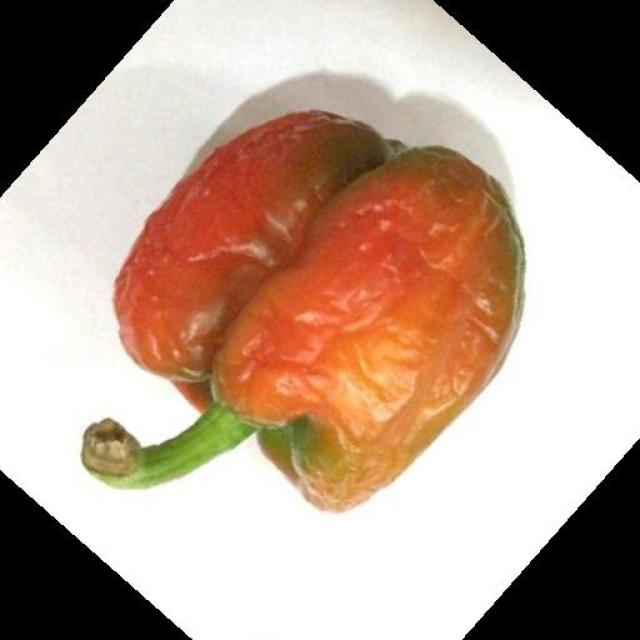Stale_Capsicum: (85, 73, 512, 514)
